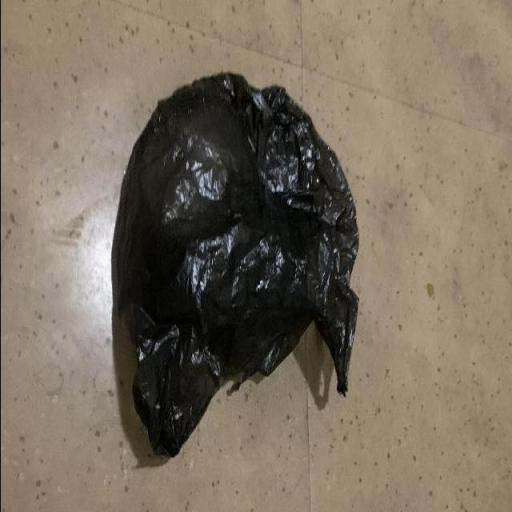plastic-bag: (110, 66, 362, 462)
